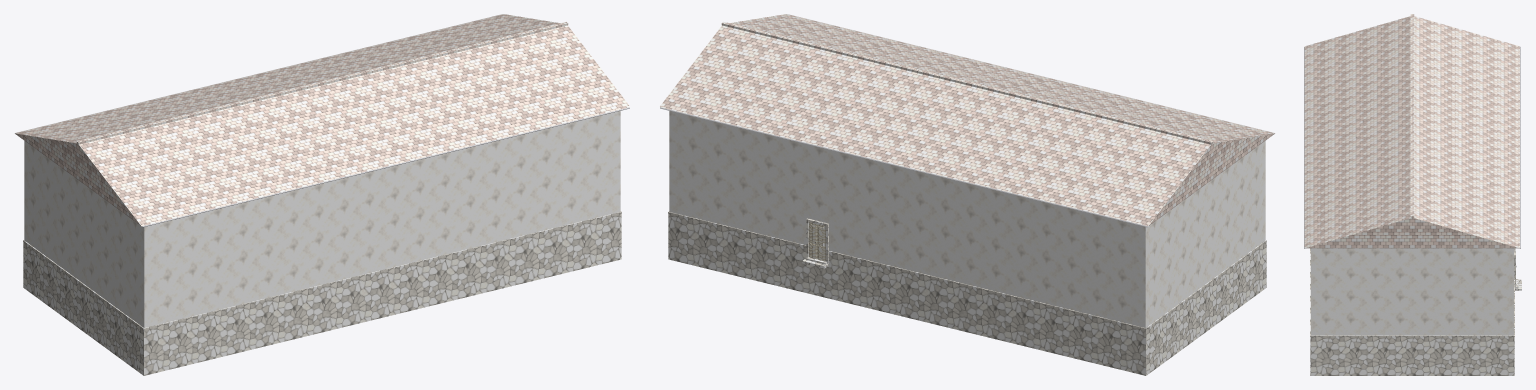
3 renders of one model, left to right at view 1: azimuth 30°, elevation 25°; view 2: azimuth 150°, elevation 25°; view 3: azimuth 270°, elevation 25°, orthographic. The views are drawn at different scales.
Visible parts, largest first — view 1: b1085384685; view 2: b1085384685; view 3: b1085384685.
Part boxes in pixels (box(x1,y1,x2,y2)): b1085384685: box(15, 14, 629, 375); b1085384685: box(660, 14, 1274, 375); b1085384685: box(1304, 14, 1521, 375).
Bounding box in the file's own units: 27.14 × 10.13 × 12.34.
Materials: 11 (11 with a texture image).
